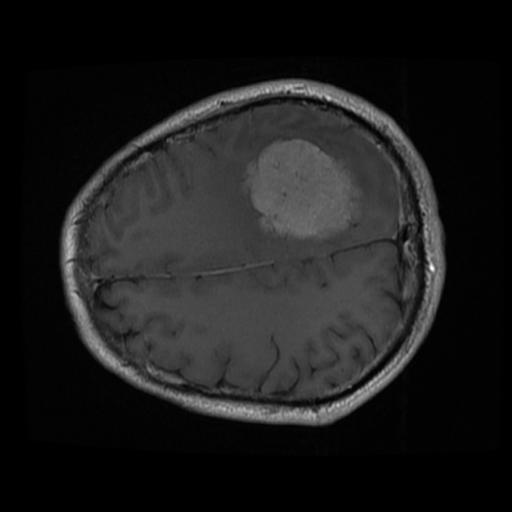meningioma: (247, 139, 353, 233)
